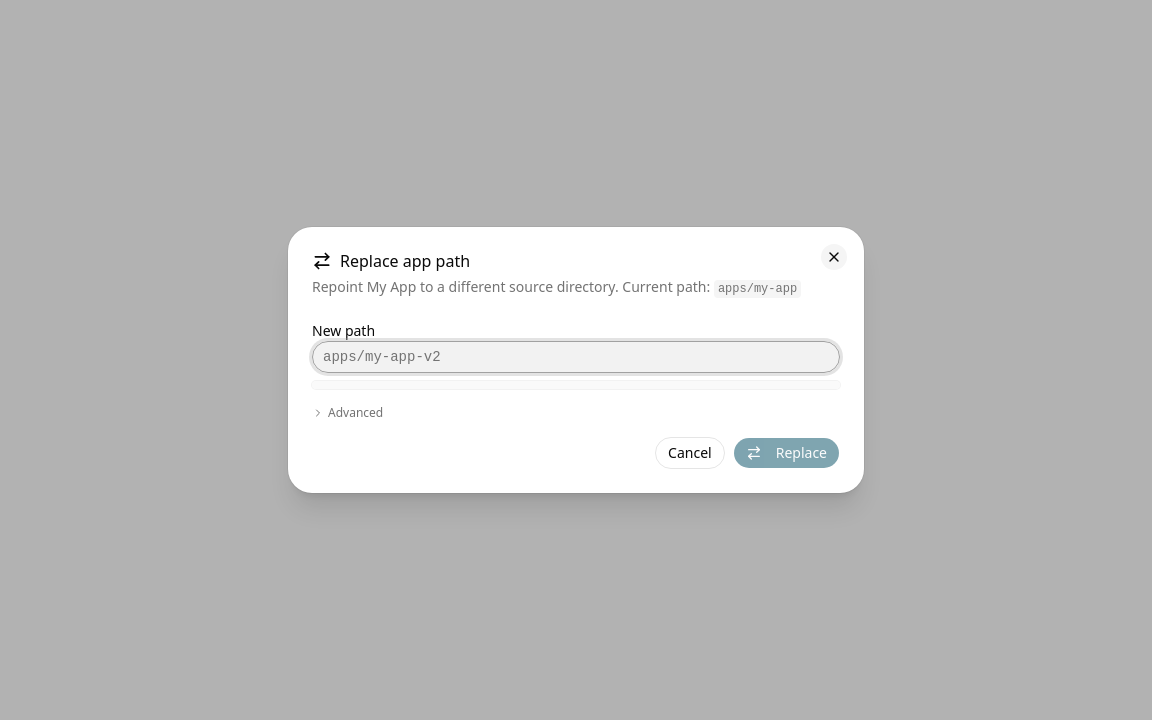
it: AppReplacePathDialog — phase transitions › submits replace then shows validation results
The image size is (1152, 720).
Type "apps/bar" into the field labelled "New path" at (576, 357), box x1=312 y1=341 x2=840 y2=373
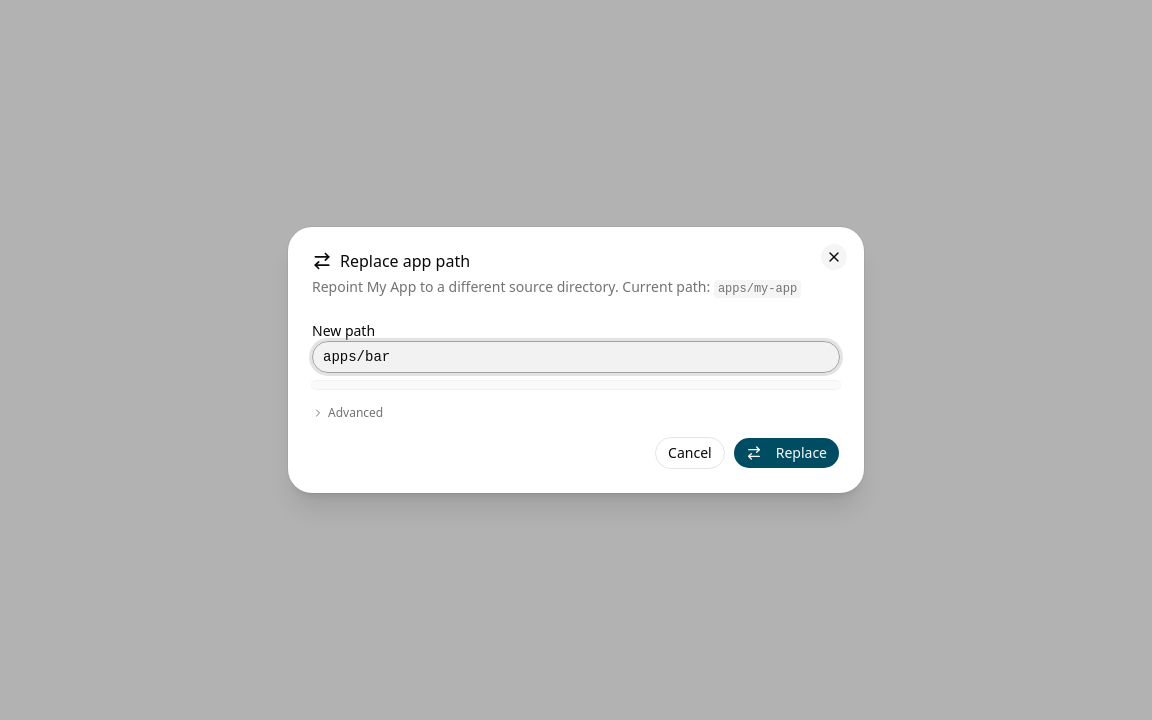
Click the button "Replace" at (786, 453), box x1=733 y1=437 x2=840 y2=469
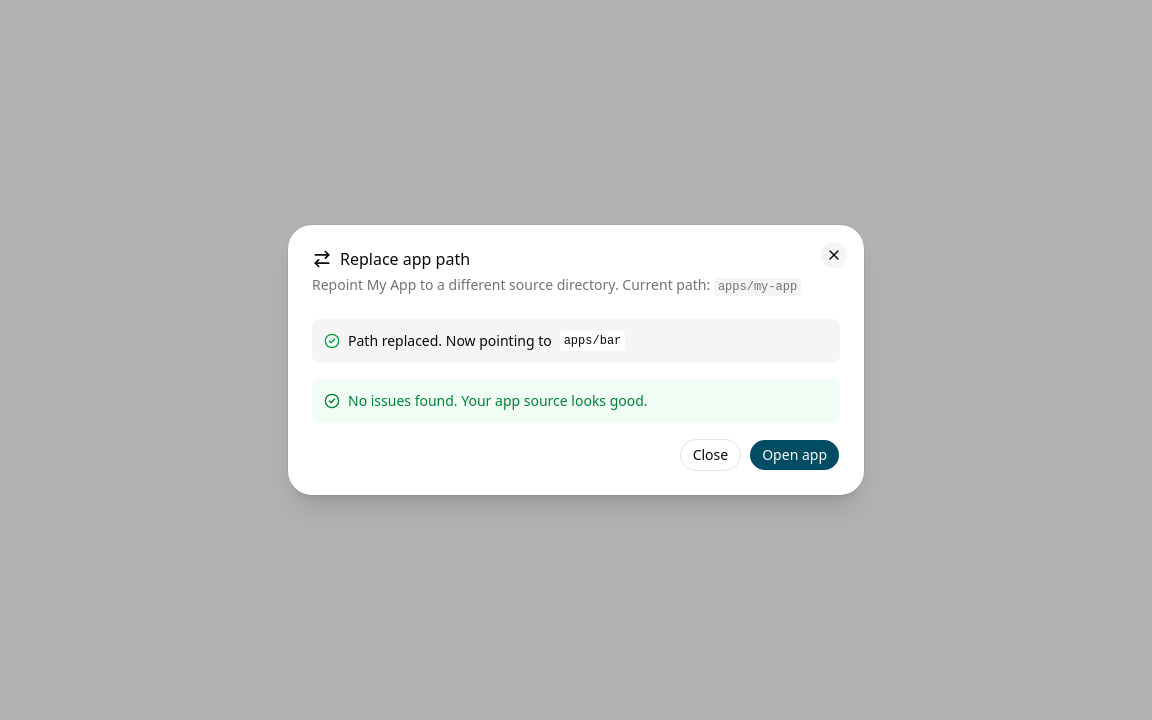
Expected: the text "No issues found. Your app source looks good." is shown, x1=348 y1=391 x2=648 y2=411
Expected: the button "Open app" is shown, x1=749 y1=439 x2=840 y2=471
